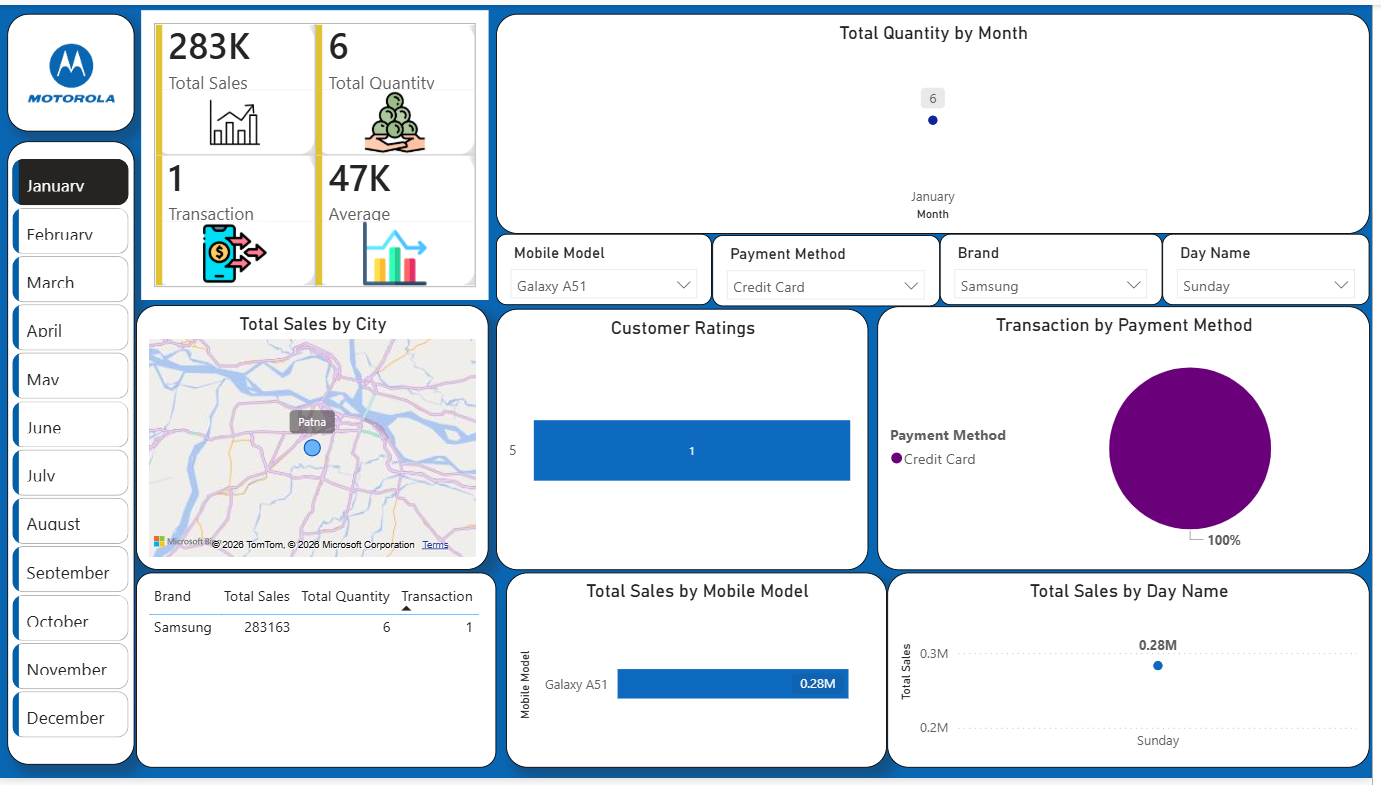

The page's visual inventory and layout, read from the dashboard file:
{"tool":"powerbi","page":{"name":"Page 1","canvas":[1280,720],"ordinal":0},"visuals":[{"type":"shape","box":[10.5,8.1,118.6,109.3],"z":0},{"type":"image","box":[18.6,19.8,101.2,87.2],"z":1000},{"type":"shape","box":[10.5,126.7,118.6,580.2],"z":2000},{"type":"advancedSlicerVisual","fields":{"Values":["Sales_Data.Date.Variation.Date Hierarchy.Month"]},"box":[10.5,138.4,118.6,557],"z":3000},{"type":"cardVisual","fields":{"Data":["Sales_Data.Total Sales","Sales_Data.Total Quantity","Sales_Data.Transaction","Sales_Data.Average"]},"box":[130.2,0,334.9,279.1],"z":4000},{"type":"map","fields":{"Size":["Sales_Data.Total Sales"],"Category":["Sales_Data.City"]},"box":[130.2,279.1,327.9,246.5],"z":5000},{"type":"lineChart","fields":{"Category":["Sales_Data.Date.Variation.Date Hierarchy.Month","Sales_Data.Date.Variation.Date Hierarchy.Day"],"Y":["Sales_Data.Total Quantity"]},"box":[465.1,8.1,812.8,204.7],"z":6000},{"type":"clusteredBarChart","fields":{"Category":["Sales_Data.Mobile Model"],"Y":["Sales_Data.Total Sales"]},"box":[474.4,527.9,354.7,181.4],"z":7000},{"type":"pieChart","fields":{"Category":["Sales_Data.Payment Method"],"Y":["Sales_Data.Transaction"]},"box":[819.8,280.2,458.1,245.3],"z":8000},{"type":"funnel","title":"Customer Ratings","fields":{"Category":["Sales_Data.Customer Ratings"],"Y":["CountNonNull(Sales_Data.Customer Ratings)"]},"box":[465.1,282.6,346.5,243],"z":9000},{"type":"areaChart","fields":{"Category":["Sales_Data.Day Name"],"Y":["Sales_Data.Total Sales"]},"box":[829.1,527.9,448.8,181.4],"z":10000},{"type":"tableEx","fields":{"Values":["Sales_Data.Brand","Sales_Data.Total Sales","Sales_Data.Total Quantity","Sales_Data.Transaction"]},"box":[130.2,527.9,334.9,181.4],"z":11000},{"type":"slicer","fields":{"Values":["Sales_Data.Mobile Model"]},"box":[465.1,212.8,201.2,66.3],"z":12000},{"type":"slicer","fields":{"Values":["Sales_Data.Payment Method"]},"box":[666.3,214,211.6,66.3],"z":13000},{"type":"slicer","fields":{"Values":["Sales_Data.Brand"]},"box":[877.9,212.8,207,66.3],"z":14000},{"type":"slicer","fields":{"Values":["Sales_Data.Day Name"]},"box":[1084.9,212.8,193,66.3],"z":15000}]}

Visuals, with their boxes in screenshot pixels (x1, y1, x2, y2), scaled from the page's 1280x720 canvas onto the 1381x785 screenshot:
shape: <bbox>11, 9, 139, 128</bbox>
image: <bbox>20, 22, 129, 117</bbox>
shape: <bbox>11, 138, 139, 771</bbox>
advancedSlicerVisual - Sales_Data.Date.Variation.Date Hierarchy.Month: <bbox>11, 151, 139, 758</bbox>
cardVisual - Sales_Data.Total Sales x Sales_Data.Total Quantity: <bbox>140, 0, 502, 304</bbox>
map - Sales_Data.Total Sales x Sales_Data.City: <bbox>140, 304, 494, 573</bbox>
lineChart - Sales_Data.Date.Variation.Date Hierarchy.Month x Sales_Data.Date.Variation.Date Hierarchy.Day: <bbox>502, 9, 1379, 232</bbox>
clusteredBarChart - Sales_Data.Mobile Model x Sales_Data.Total Sales: <bbox>512, 576, 895, 773</bbox>
pieChart - Sales_Data.Payment Method x Sales_Data.Transaction: <bbox>884, 305, 1379, 573</bbox>
"Customer Ratings" funnel: <bbox>502, 308, 876, 573</bbox>
areaChart - Sales_Data.Day Name x Sales_Data.Total Sales: <bbox>895, 576, 1379, 773</bbox>
tableEx - Sales_Data.Brand x Sales_Data.Total Sales: <bbox>140, 576, 502, 773</bbox>
slicer - Sales_Data.Mobile Model: <bbox>502, 232, 719, 304</bbox>
slicer - Sales_Data.Payment Method: <bbox>719, 233, 947, 306</bbox>
slicer - Sales_Data.Brand: <bbox>947, 232, 1171, 304</bbox>
slicer - Sales_Data.Day Name: <bbox>1171, 232, 1379, 304</bbox>
